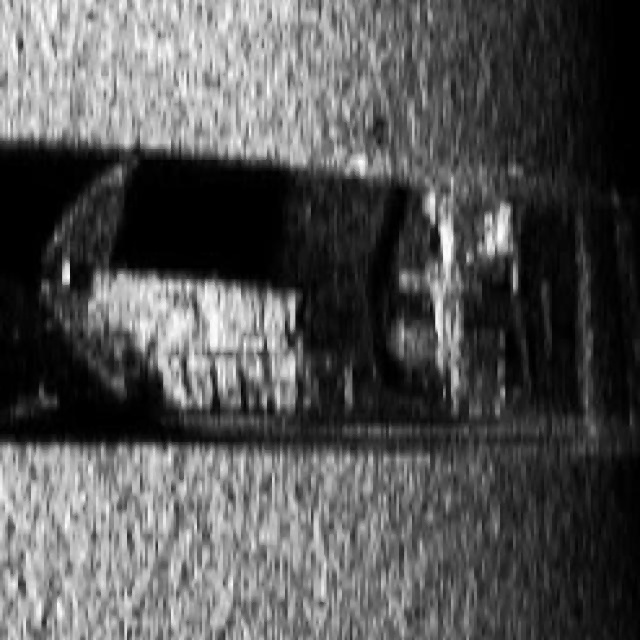Ship: (36, 136, 635, 468)
